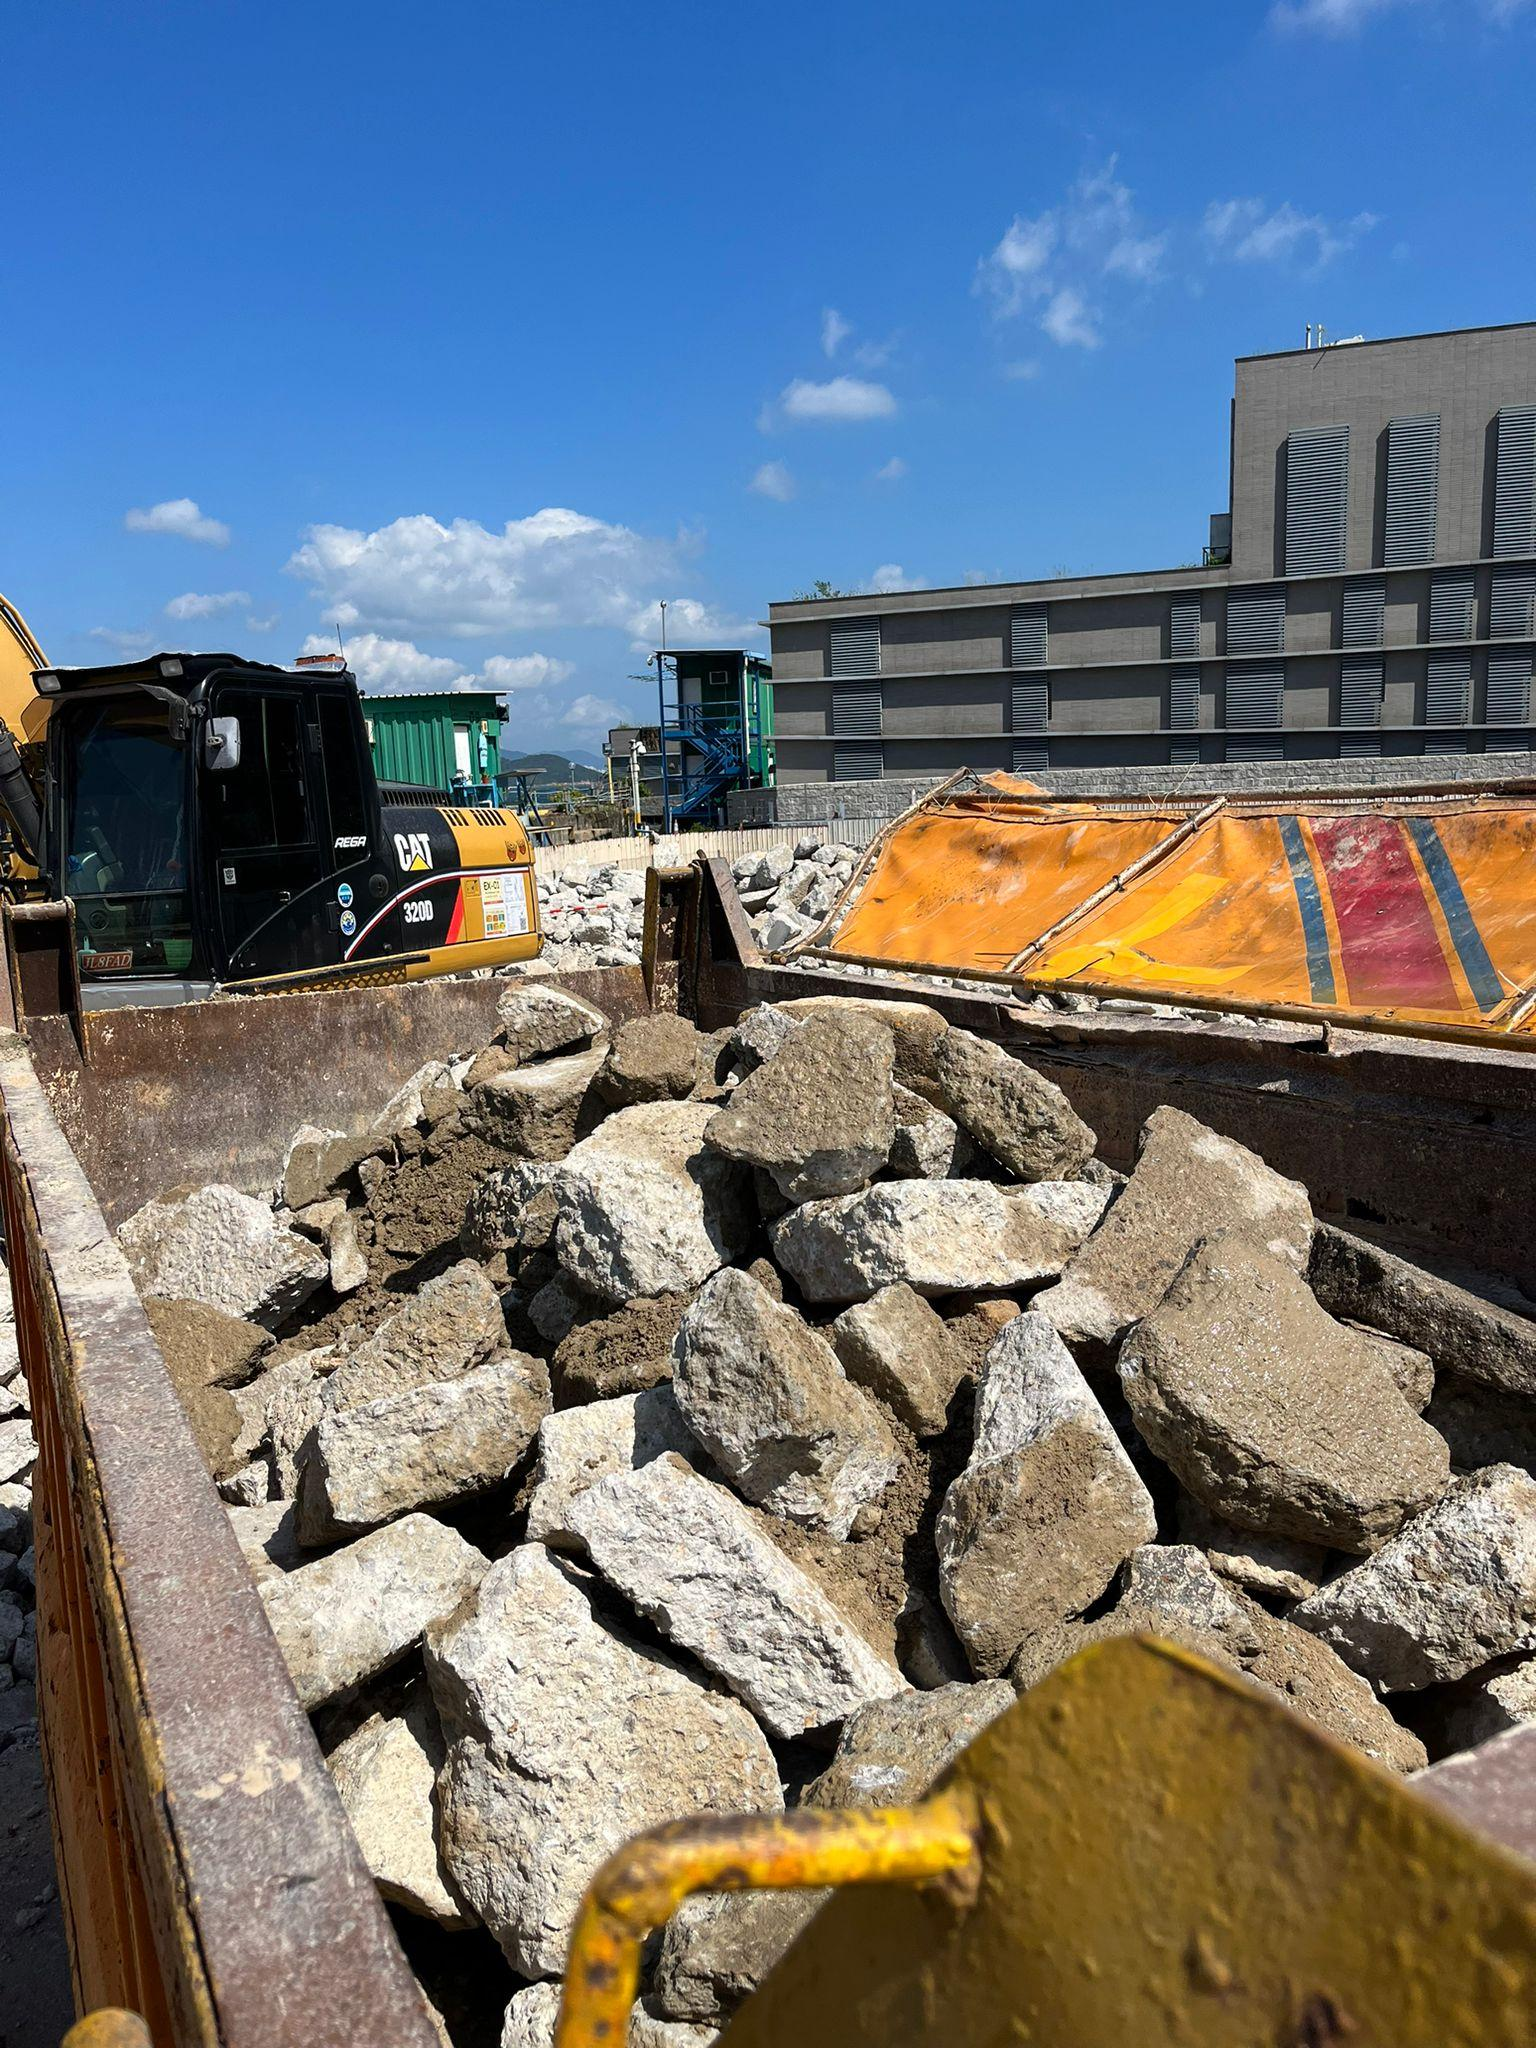dry: (144, 993, 1523, 2043)
